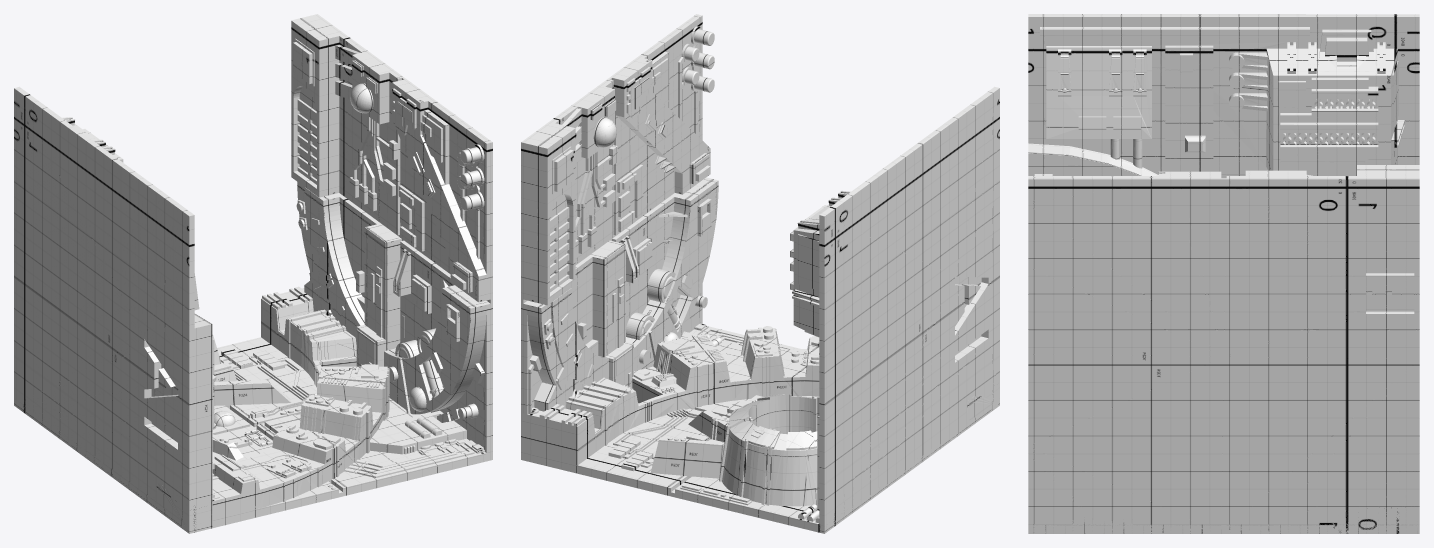
File: LevelC.fbx
3 views of the same model, side by side, from view 1: azimuth 30°, elevation 25°; view 2: azimuth 150°, elevation 25°; view 3: azimuth 270°, elevation 25° (orthographic). The views are drawn at different scales.
Parts seen in each view (by area): view 1: c; view 2: c; view 3: c.
Part boxes in pixels (<box>): c: <box>14,14,492,533</box>; c: <box>521,14,999,533</box>; c: <box>1028,14,1419,533</box>.
Bounding box in the file's own units: 7500 × 7500 × 7500.
